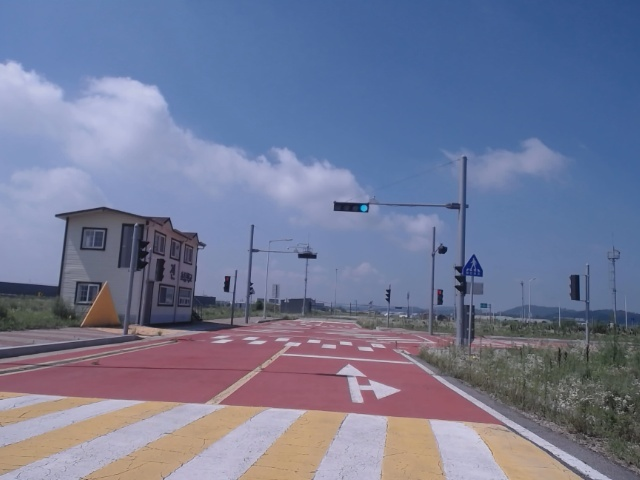straight_green_4: (333, 203, 369, 213)
